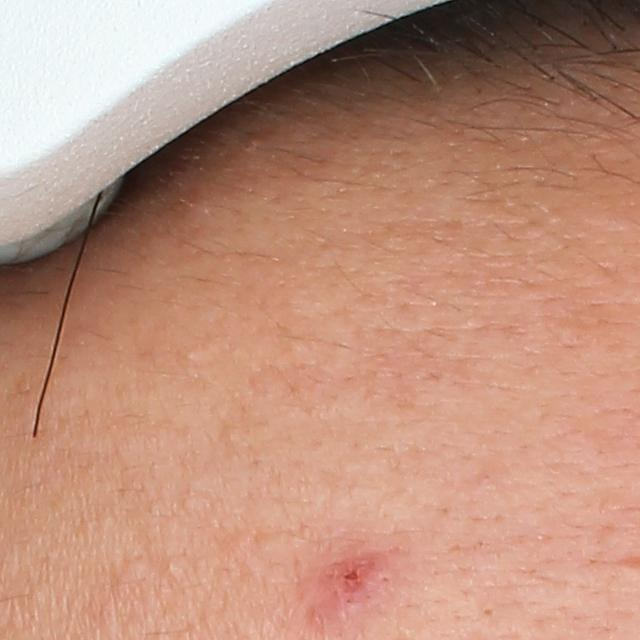comedo: (162, 557, 183, 580), (478, 603, 496, 624), (184, 347, 199, 366)
papule: (312, 544, 396, 628)
